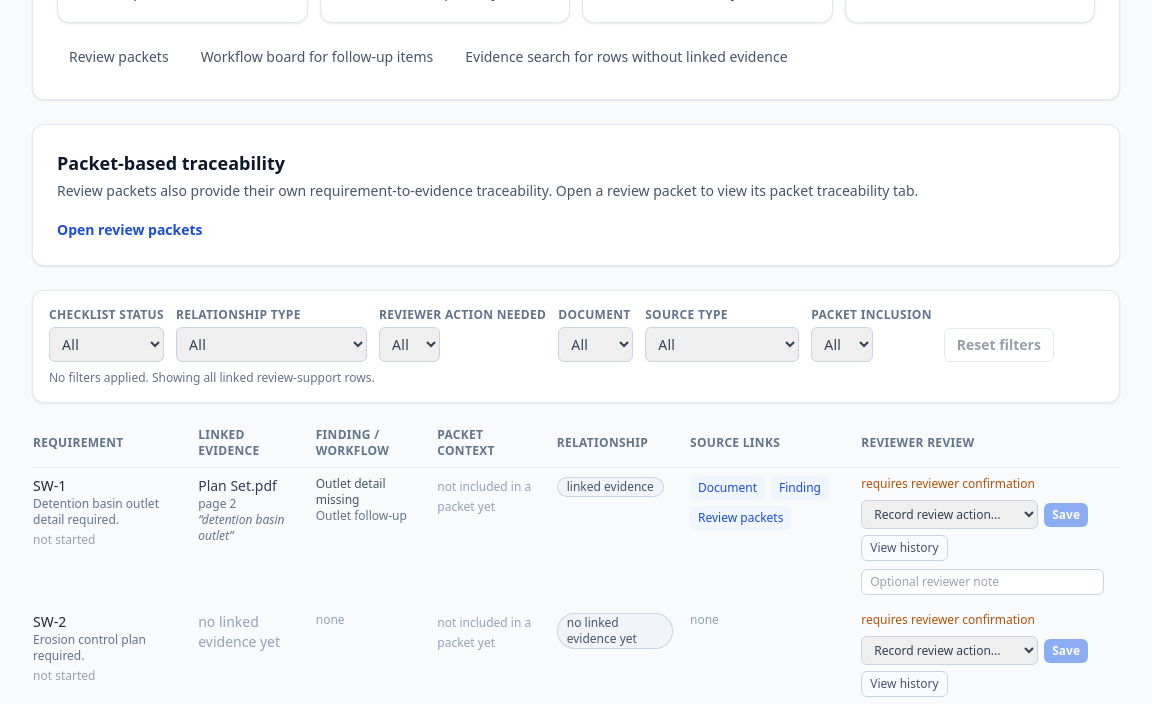
Test: Project traceability page › filters rows by relationship type
(page scrolled)
Expected: the text "SW-2" is shown, [33,612,66,631]
Step 1. Select "linked evidence" in the dropdown labelled "Relationship type" → {"x": 272, "y": 344}, box [176,327,367,362]
(page scrolled)
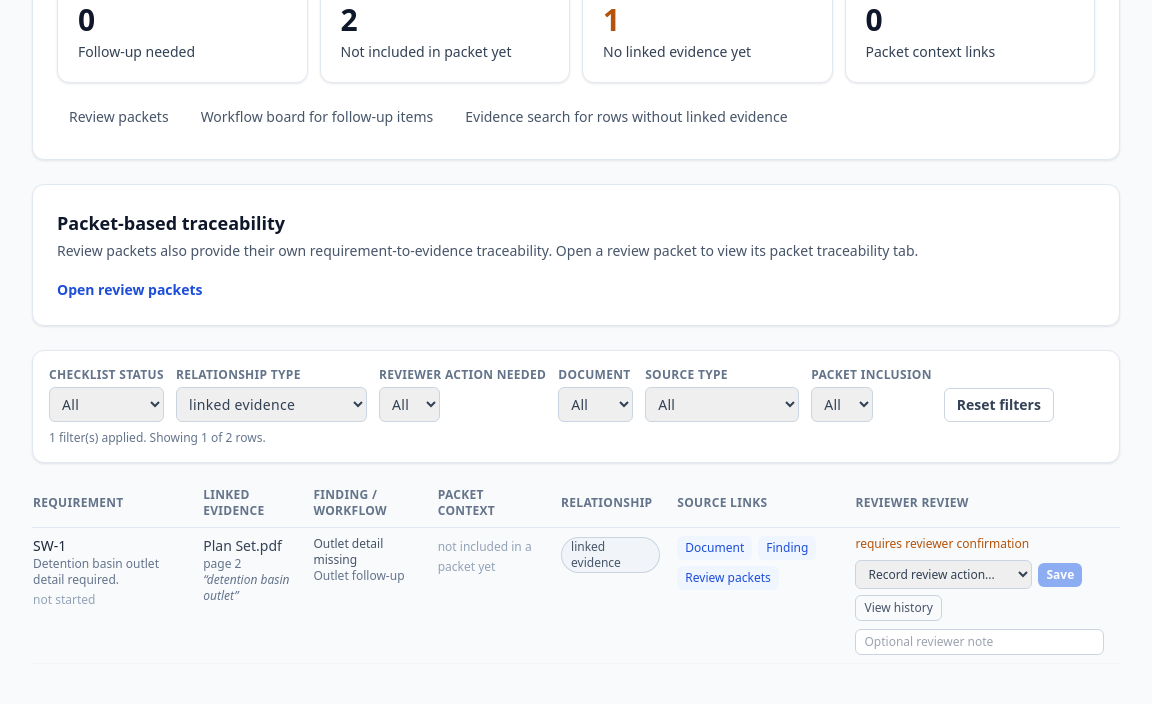
Expected: the text "SW-1" is shown, [33,536,66,555]
Expected: the text "SW-2" is gone
